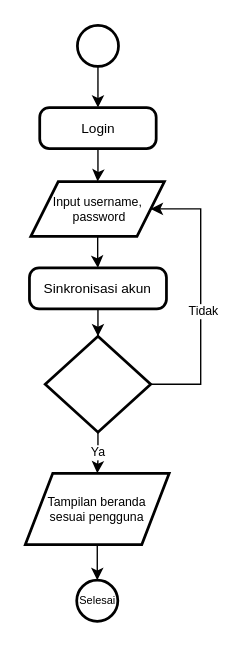
This 241x645 diagram has some shape labels left out. The centre of each missing label's shape, as x and y in pixels:
"Akun" belongs at (97,383).
"Mulai" belongs at (97,45).
